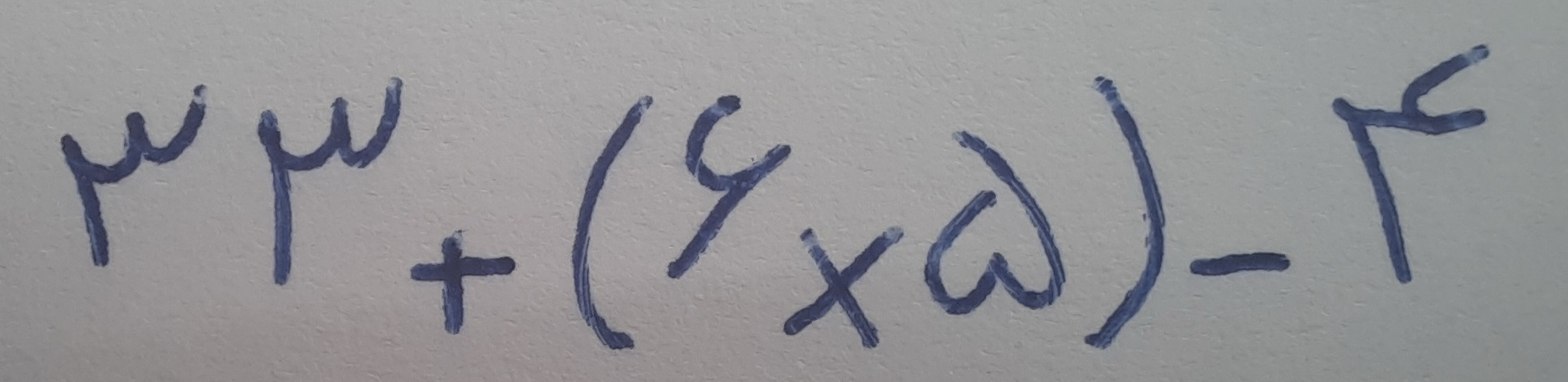character: (1331, 42, 1495, 289), (253, 73, 404, 284), (56, 80, 211, 269), (921, 126, 1069, 320), (662, 91, 793, 282), (1080, 75, 1168, 355), (568, 91, 656, 353), (781, 221, 908, 353), (407, 230, 516, 335), (1187, 247, 1292, 283)
